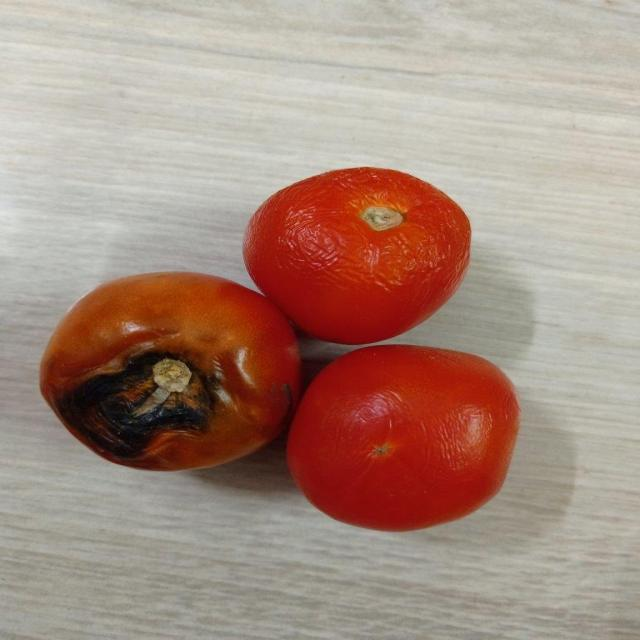Rotten: (38, 269, 305, 469)
overripe: (242, 166, 469, 345)
